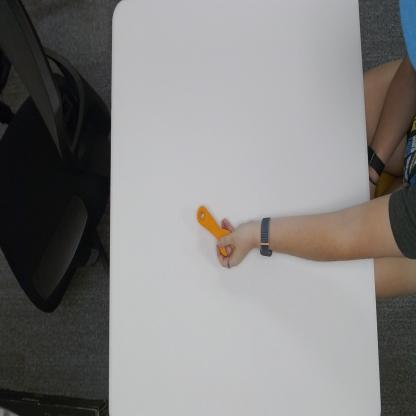Arm: (274, 202, 376, 262)
Hand: (217, 217, 257, 269)
Screwdriver: (196, 203, 235, 256)
